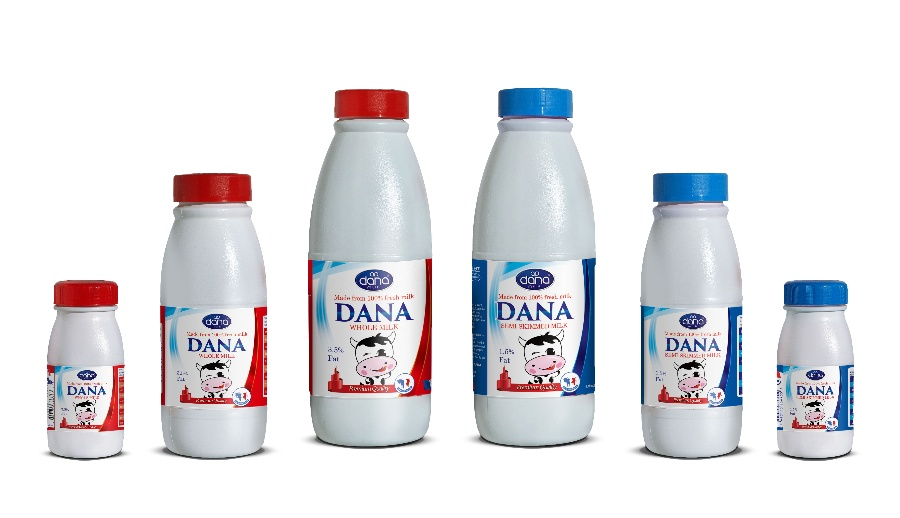milk: (299, 82, 451, 454), (457, 84, 606, 459), (626, 165, 758, 463), (149, 167, 277, 463), (766, 275, 872, 472), (38, 276, 137, 464)
